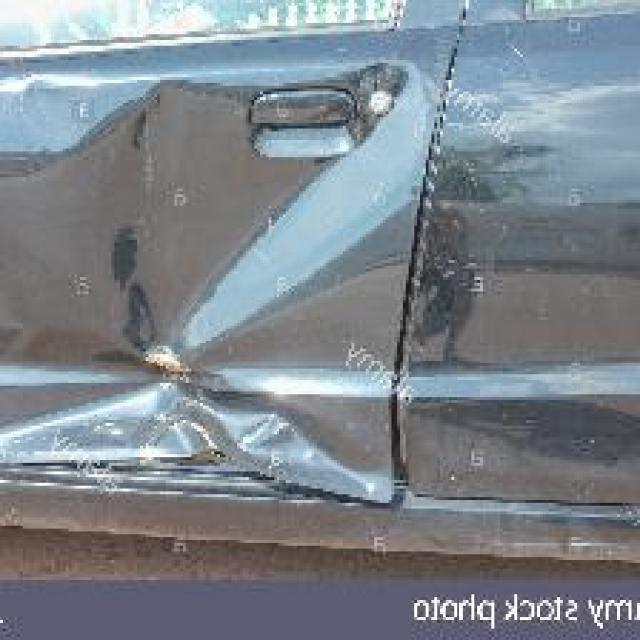minor: (1, 44, 446, 503)
